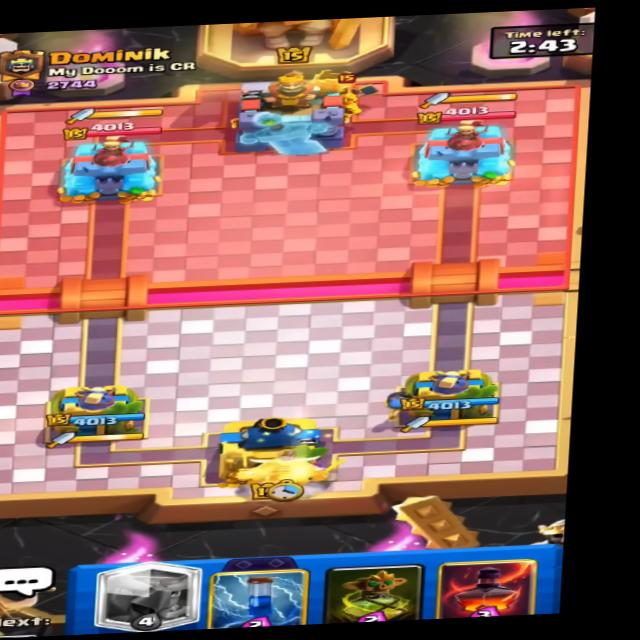valkyrie: (324, 71, 386, 105)
